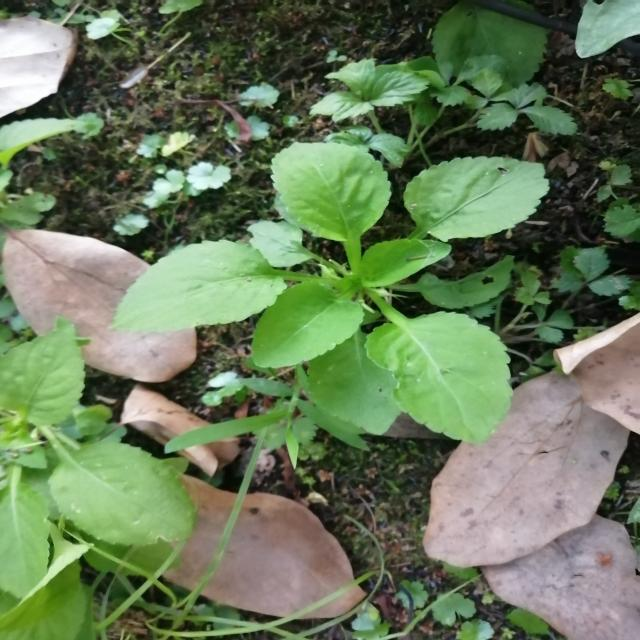Viola: (169, 142, 554, 434)
